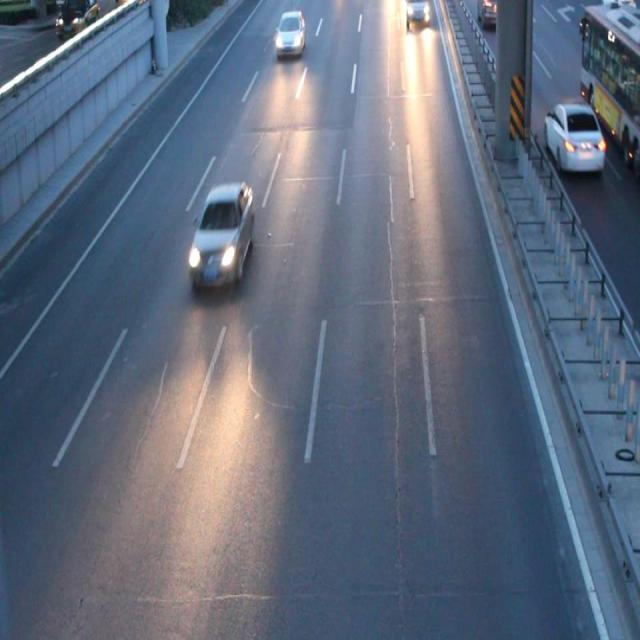car: (190, 185, 252, 282), (544, 100, 603, 170), (274, 10, 304, 54), (476, 1, 506, 23)
truck: (405, 1, 429, 24)
van: (580, 1, 640, 165)
